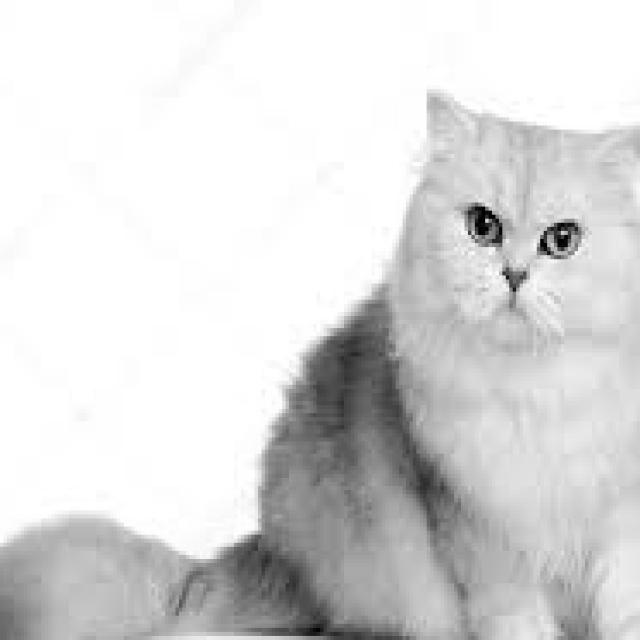british: (402, 68, 640, 364)
